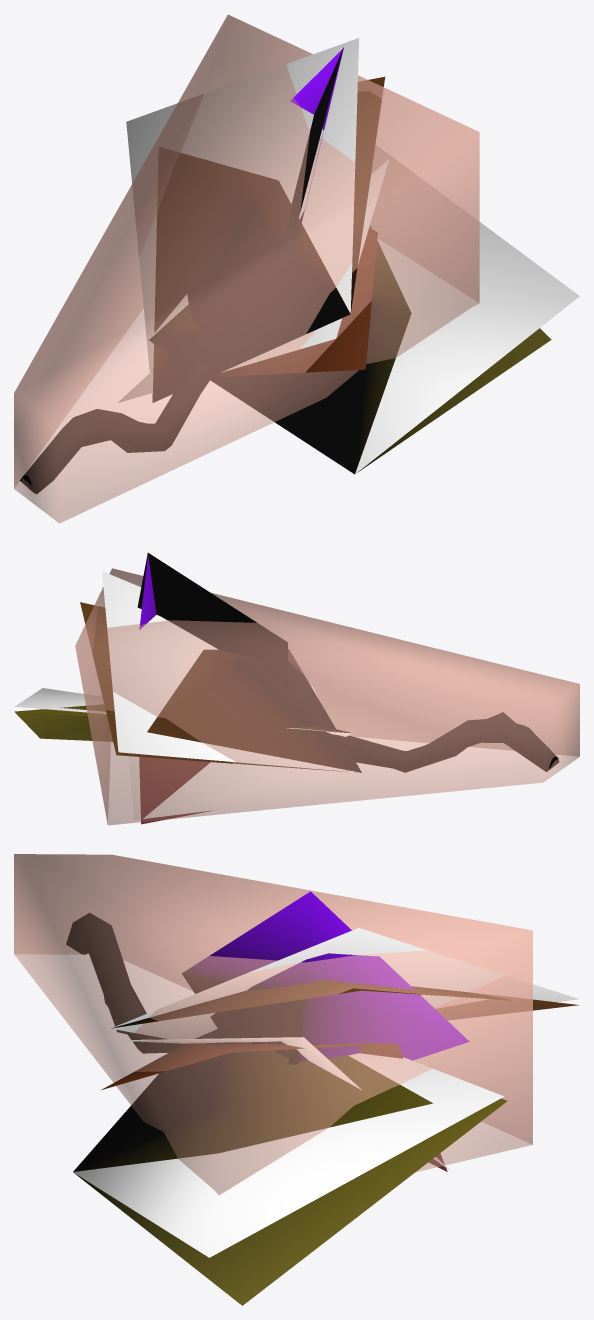
Rendered from Juniper_dead_branch_01.dae.
The picture shows the model from 3 angles, top to bottom: view 1: azimuth 30°, elevation 25°; view 2: azimuth 150°, elevation 25°; view 3: azimuth 270°, elevation 25°; orthographic projection. The views are drawn at different scales.
Parts seen in each view (by area): view 1: Colmesh-1, Juniper_dead_branch_01_a80, Juniper_dead_branch_01_a150; view 2: Colmesh-1, Juniper_dead_branch_01_a80, Juniper_dead_branch_01_a150; view 3: Colmesh-1, Juniper_dead_branch_01_a150, Juniper_dead_branch_01_a80.
Part boxes in pixels (bbox=[...]): Colmesh-1: bbox=[14, 14, 479, 523]; Juniper_dead_branch_01_a80: bbox=[23, 38, 579, 491]; Juniper_dead_branch_01_a150: bbox=[20, 48, 551, 493]; Colmesh-1: bbox=[75, 568, 579, 825]; Juniper_dead_branch_01_a80: bbox=[14, 553, 557, 819]; Juniper_dead_branch_01_a150: bbox=[14, 554, 559, 824]; Colmesh-1: bbox=[14, 854, 532, 1195]; Juniper_dead_branch_01_a150: bbox=[66, 891, 579, 1305]; Juniper_dead_branch_01_a80: bbox=[71, 915, 579, 1257].
Size of the model in its own units: 2.59 by 1.97 by 1.28.
